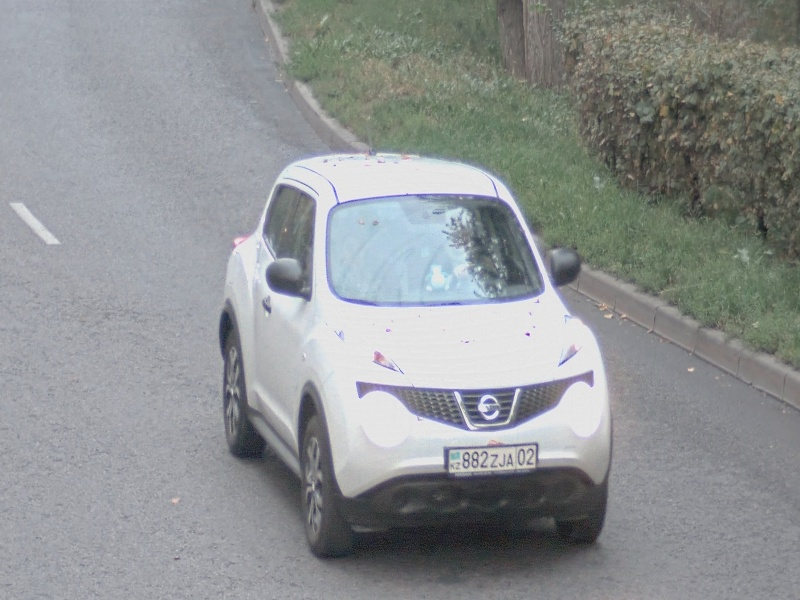plate: (447, 443, 538, 475)
